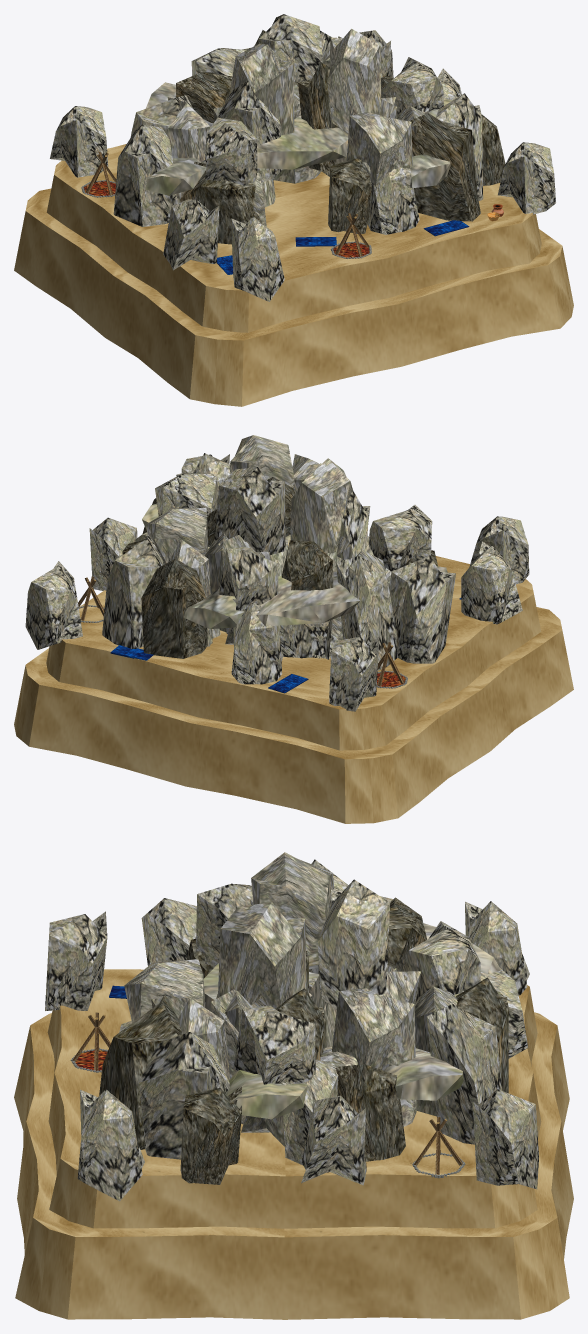
The model's file is wonder.dae.
3 renders of one model, top to bottom at view 1: azimuth 30°, elevation 25°; view 2: azimuth 150°, elevation 25°; view 3: azimuth 270°, elevation 25°, orthographic. The views are drawn at different scales.
Visible parts, largest first — view 1: wonder; view 2: wonder; view 3: wonder.
Boxes of the visible parts, x1,y1,x2,y2 form: wonder: (14, 14, 573, 406); wonder: (14, 435, 573, 823); wonder: (14, 852, 573, 1319).
Size of the model in its own units: 46.94 by 45.8 by 29.54.
